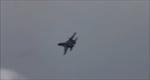maybay_muctieu: (58, 30, 78, 56)
